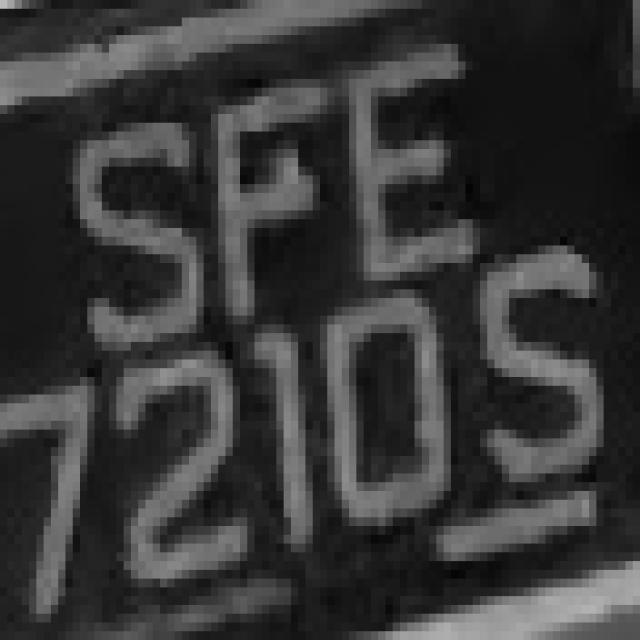0: (306, 272, 466, 552)
1: (240, 316, 335, 588)
2: (87, 360, 255, 622)
7: (0, 359, 109, 640)
E: (335, 35, 487, 289)
F: (174, 70, 342, 342)
S: (458, 219, 611, 509), (58, 96, 204, 386)
